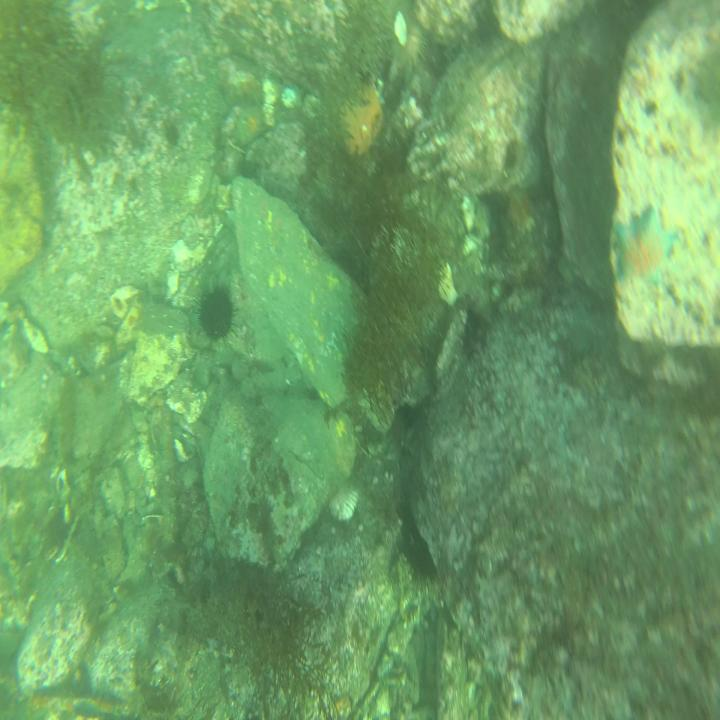echinus: (197, 288, 235, 344), (402, 532, 438, 588)
starfish: (615, 208, 675, 291)
